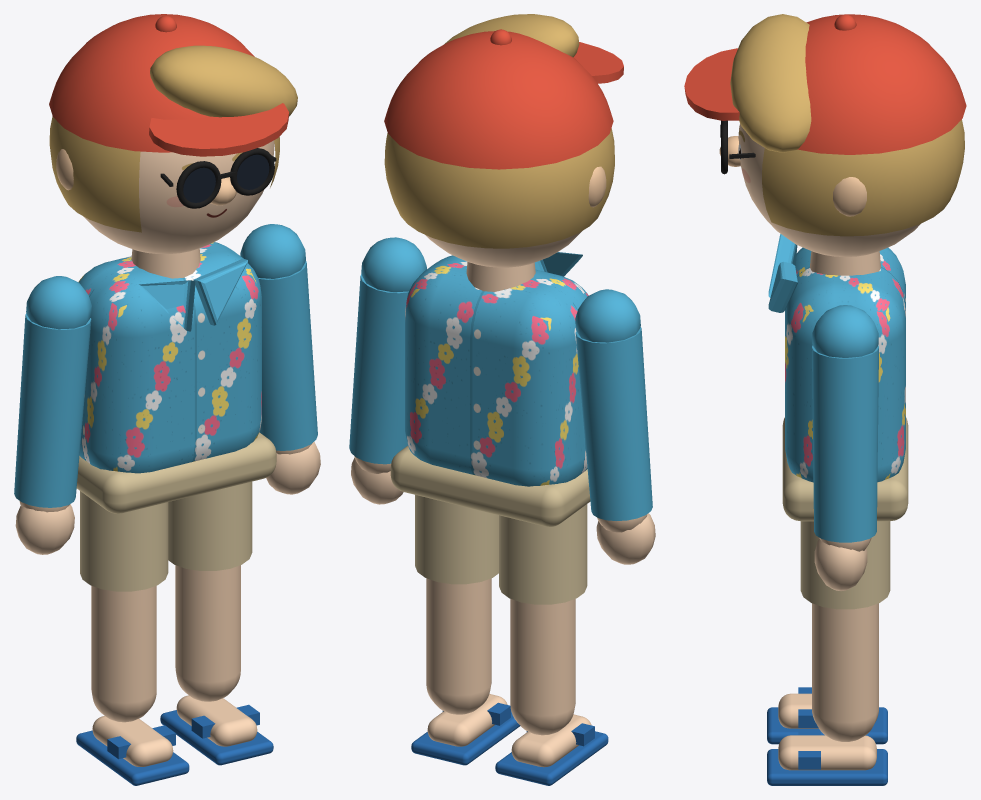
File: kisi-turist.glb
3 renders of one model, left to right at view 1: azimuth 30°, elevation 25°; view 2: azimuth 150°, elevation 25°; view 3: azimuth 270°, elevation 25°, orthographic.
Parts seen in each view (by area): view 1: bas, govde, bacakL, bacakR, kolL, kolR; view 2: bas, govde, bacakL, bacakR, kolL, kolR; view 3: bas, govde, bacakR, kolR, bacakL.
Boxes of the visible parts, left/top/right/bottom form: bas: left=49, top=14, right=297, bottom=254; govde: left=76, top=242, right=276, bottom=513; bacakL: left=76, top=491, right=189, bottom=785; bacakR: left=160, top=481, right=273, bottom=765; kolL: left=14, top=276, right=91, bottom=554; kolR: left=240, top=224, right=320, bottom=494; bas: left=384, top=14, right=623, bottom=267; govde: left=390, top=252, right=590, bottom=526; bacakL: left=495, top=504, right=608, bottom=785; bacakR: left=411, top=495, right=520, bottom=765; kolL: left=575, top=289, right=655, bottom=564; kolR: left=349, top=237, right=426, bottom=504; bas: left=684, top=14, right=966, bottom=256; govde: left=768, top=234, right=908, bottom=521; bacakR: left=767, top=521, right=890, bottom=785; kolR: left=812, top=305, right=878, bottom=590; bacakL: left=767, top=687, right=887, bottom=744.
Size of the model in its own units: 0.7827 by 1.82 by 0.6295.
13 materials, 2 textured.
